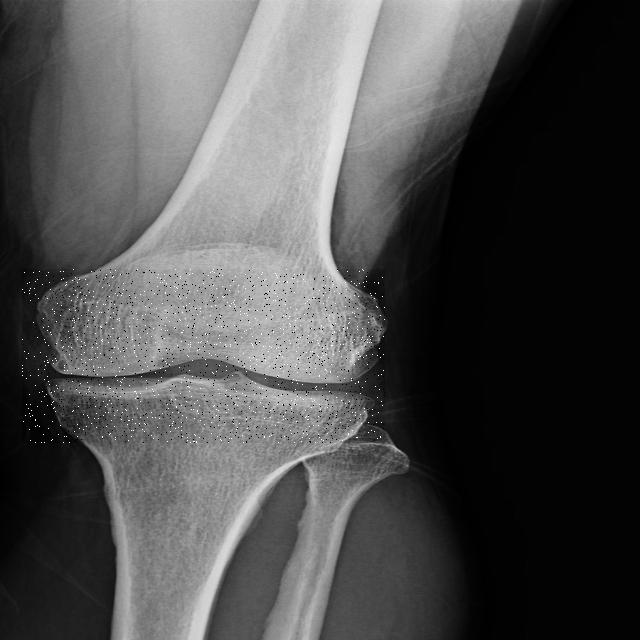osteo: (22, 269, 385, 443)
